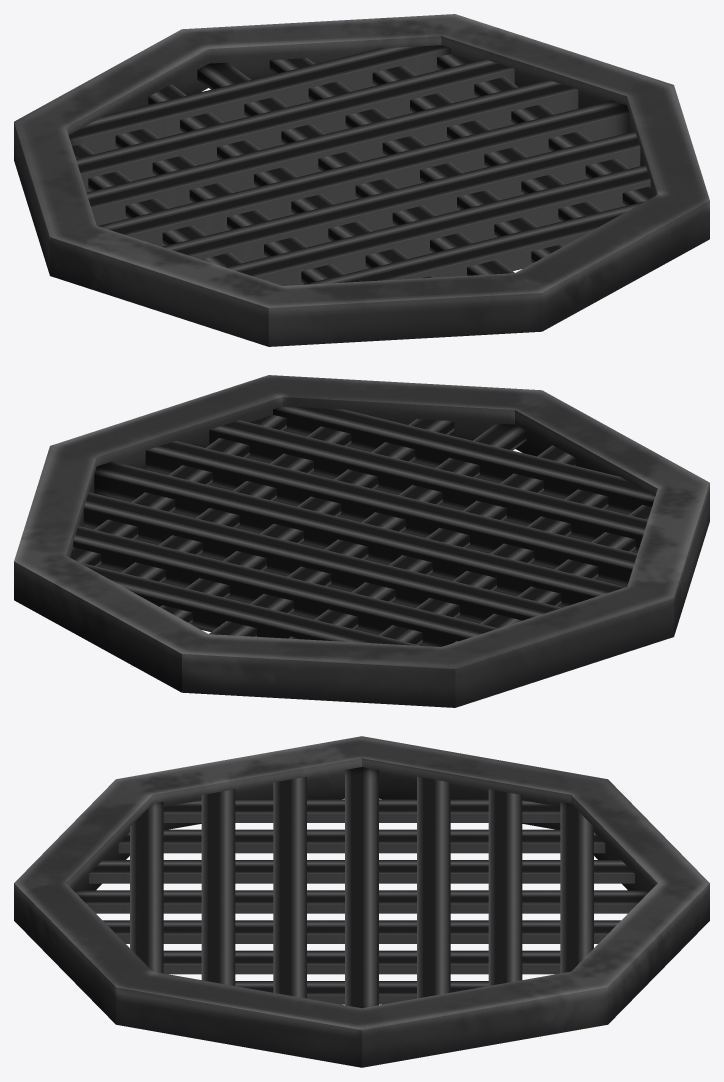
Rendered from SM_freezer_TRAP.fbx.
3 views of the same model, one above another, from view 1: azimuth 30°, elevation 25°; view 2: azimuth 150°, elevation 25°; view 3: azimuth 270°, elevation 25° (orthographic). The views are drawn at different scales.
Visible parts, largest first — view 1: SM_freezer_TRAP; view 2: SM_freezer_TRAP; view 3: SM_freezer_TRAP.
Part boxes in pixels (bbox=[...]): SM_freezer_TRAP: bbox=[14, 14, 709, 346]; SM_freezer_TRAP: bbox=[14, 375, 709, 707]; SM_freezer_TRAP: bbox=[14, 736, 709, 1067].
Bounding box in the file's own units: 1.93 × 0.1148 × 1.93.
